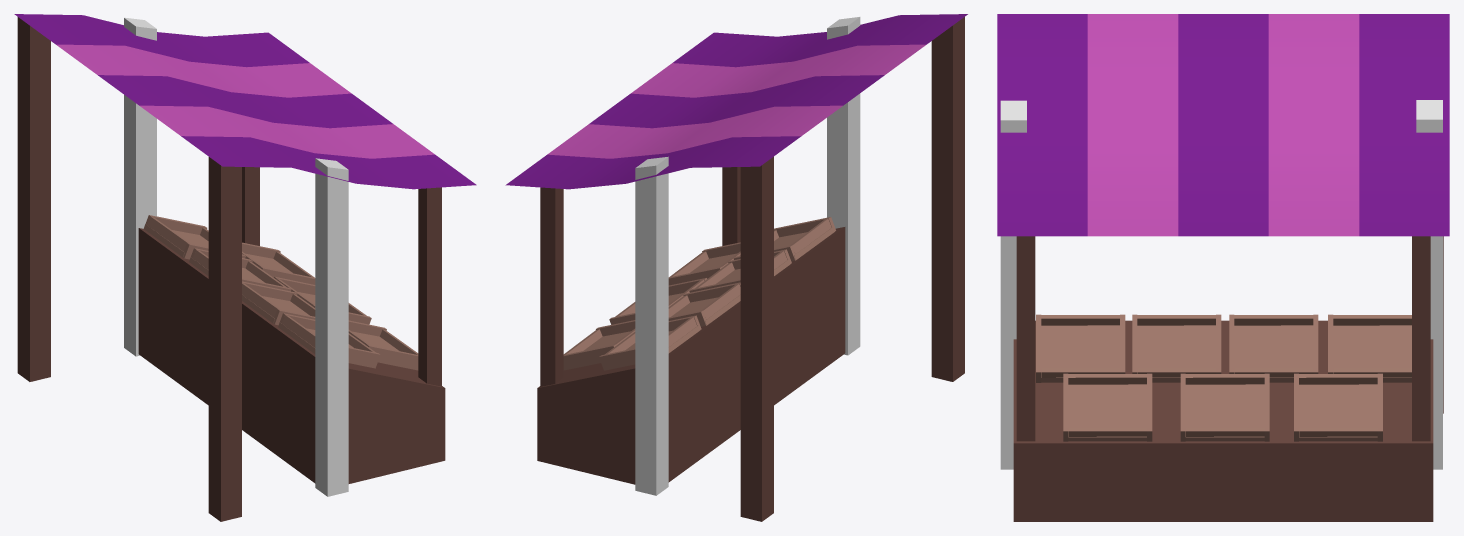
The model's file is ingredientStall.fbx.
3 views of the same model, side by side, from view 1: azimuth 30°, elevation 25°; view 2: azimuth 150°, elevation 25°; view 3: azimuth 270°, elevation 25° (orthographic). The views are drawn at different scales.
Visible parts, largest first — view 1: Plane, Cube, Cube.004, Cube.005, Cube.001, Cube.002, Cube.003, Cube.006, Cube.039, Cube.022, Cube.012; view 2: Plane, Cube, Cube.005, Cube.004, Cube.002, Cube.001, Cube.006, Cube.003, Cube.028, Cube.017, Cube.023, Cube.007; view 3: Plane, Cube, Cube.001, Cube.003, Cube.032, Cube.027, Cube.037, Cube.006, Cube.017, Cube.012, Cube.022, Cube.007 (+15 smaller).
Boxes of the visible parts, x1,y1,x2,y2 form: Plane: (14, 14, 476, 189); Cube: (138, 228, 445, 483); Cube.004: (208, 157, 241, 521); Cube.005: (17, 17, 50, 381); Cube.001: (315, 158, 348, 496); Cube.002: (124, 17, 156, 356); Cube.003: (418, 187, 441, 386); Cube.006: (242, 167, 259, 245); Cube.039: (366, 344, 418, 370); Cube.022: (143, 224, 208, 257); Cube.012: (242, 295, 309, 323); Plane: (505, 14, 967, 189); Cube: (537, 227, 845, 484); Cube.005: (740, 156, 773, 521); Cube.004: (931, 17, 964, 381); Cube.002: (635, 156, 668, 495); Cube.001: (827, 17, 860, 355); Cube.006: (540, 187, 563, 386); Cube.003: (722, 167, 740, 245); Cube.028: (563, 344, 616, 370); Cube.017: (671, 294, 740, 325); Cube.023: (599, 348, 635, 370); Cube.007: (774, 227, 834, 260); Plane: (997, 14, 1449, 236); Cube: (1013, 320, 1433, 521); Cube.001: (1000, 100, 1026, 469); Cube.003: (1016, 236, 1035, 441); Cube.032: (1185, 384, 1264, 441); Cube.027: (1299, 384, 1377, 441); Cube.037: (1068, 384, 1146, 441); Cube.006: (1412, 236, 1430, 441); Cube.017: (1234, 325, 1313, 382); Cube.012: (1137, 325, 1215, 382); Cube.022: (1333, 325, 1411, 382); Cube.007: (1041, 325, 1119, 382).
Size of the model in its own units: 421 by 565 by 598.
